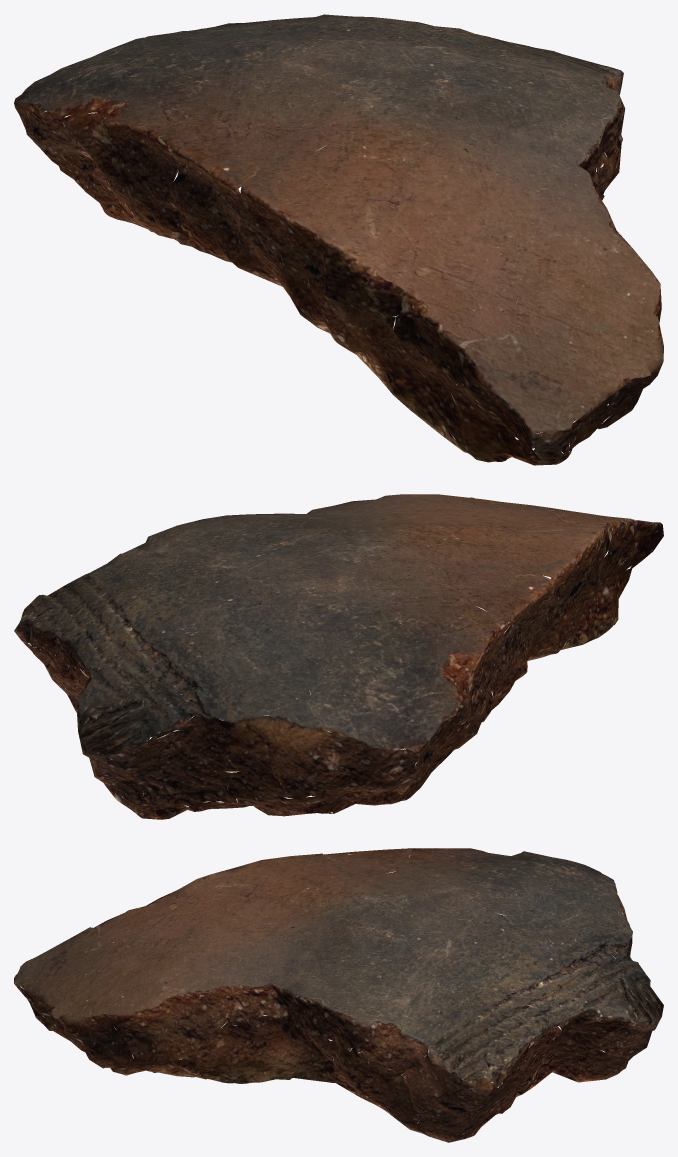
The model's file is piece10_10000_resHi.glb.
3 renders of one model, top to bottom at view 1: azimuth 30°, elevation 25°; view 2: azimuth 150°, elevation 25°; view 3: azimuth 270°, elevation 25°, orthographic. The views are drawn at different scales.
Bounding box in the file's own units: 0.0822 × 0.0329 × 0.1197.
1 material, 1 textured.
